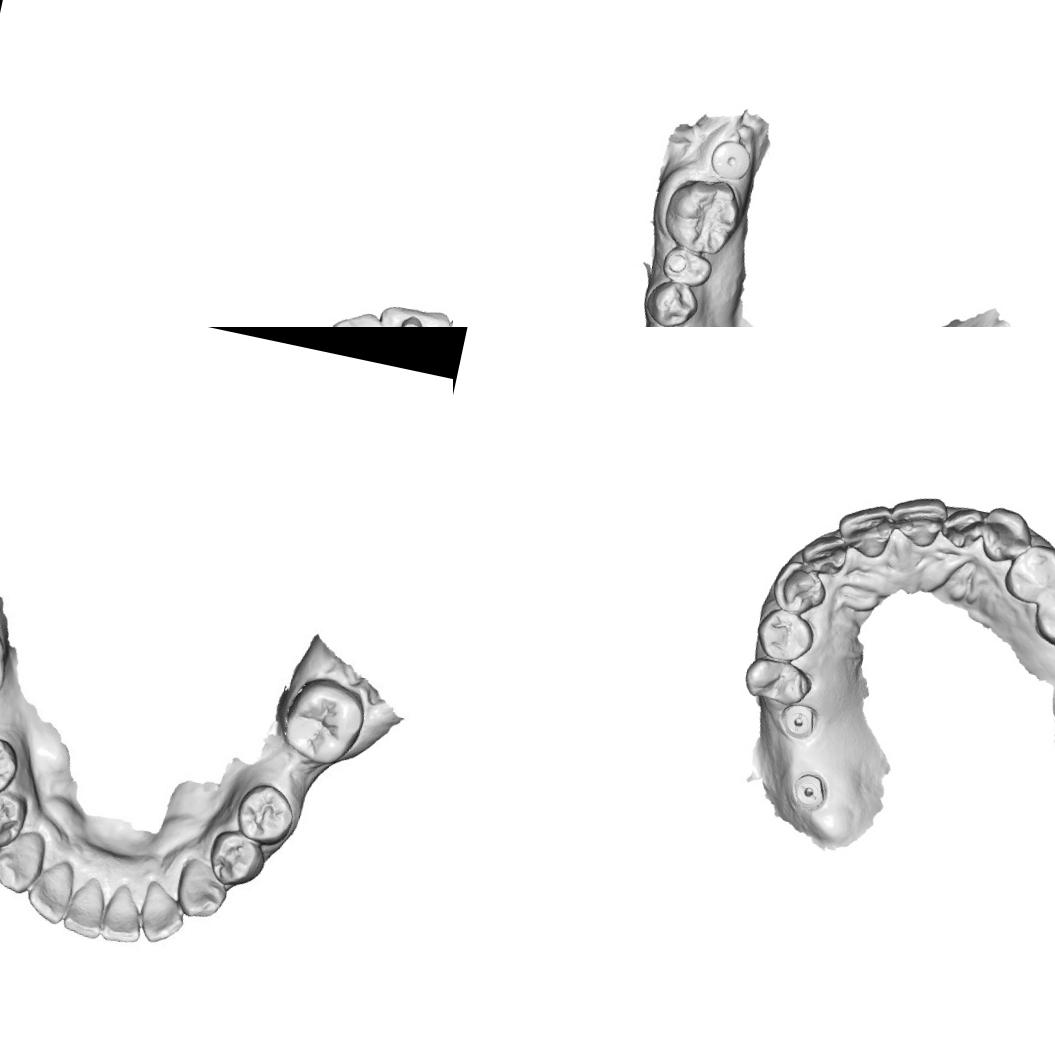canine: (768, 557, 832, 620), (976, 504, 1038, 569), (177, 856, 229, 918), (0, 834, 42, 895)
implant: (706, 136, 754, 183)
implant_minus: (786, 768, 832, 814), (775, 699, 822, 744)
incisor: (883, 488, 952, 551), (832, 497, 898, 561), (23, 857, 78, 924), (136, 881, 191, 945), (98, 882, 149, 944), (59, 876, 110, 937), (365, 296, 453, 327), (797, 528, 851, 578), (937, 502, 987, 552), (316, 306, 390, 327)
molar: (280, 672, 366, 768), (658, 170, 748, 260)
premolar: (230, 778, 301, 848), (738, 653, 818, 710), (999, 537, 1055, 611), (750, 606, 819, 666), (641, 275, 703, 327), (214, 828, 264, 884), (658, 244, 715, 291), (1029, 572, 1055, 653), (0, 789, 27, 848), (0, 735, 20, 796)
